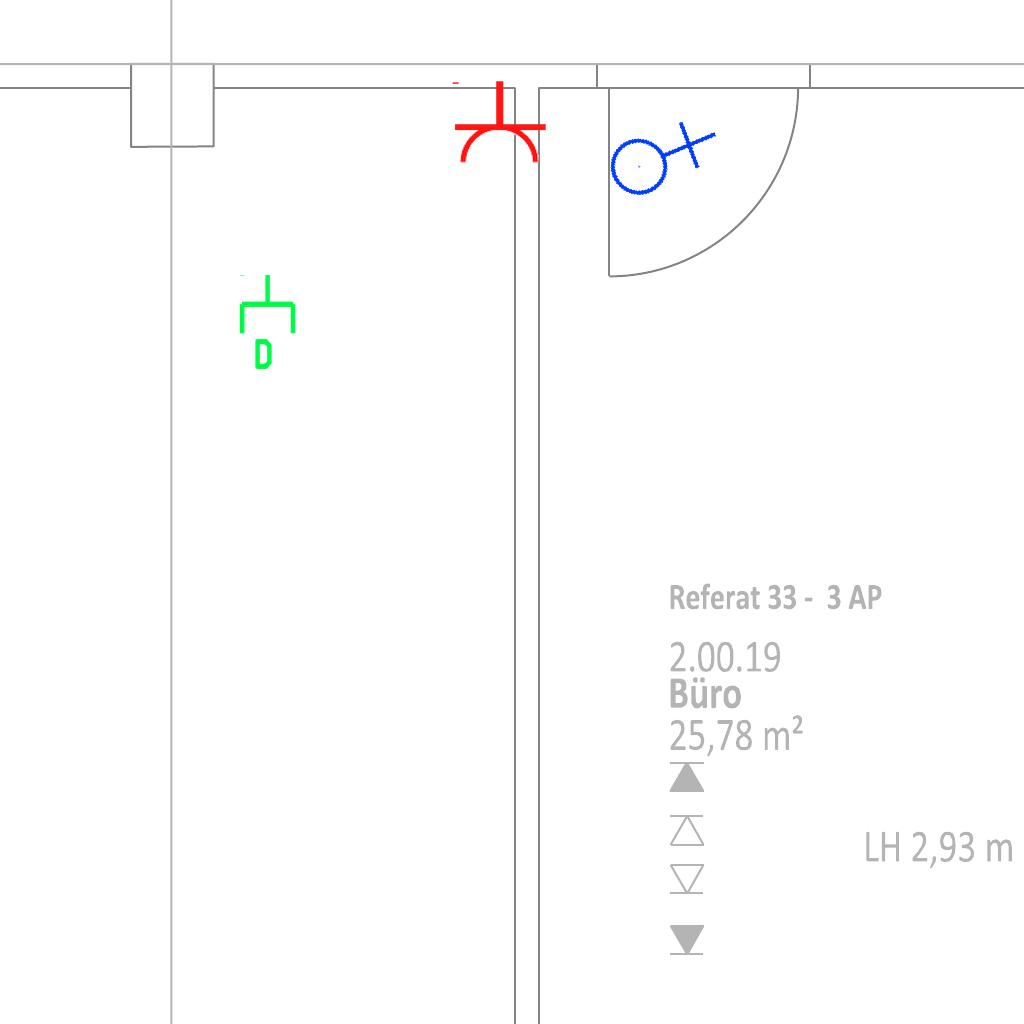Datenanschluss_einfach: (235, 272, 304, 372)
Elektroanschluss_allgemein_230V_Geraeteanschlussdose_230V: (593, 93, 720, 217)
Schukosteckdose_einfach: (448, 79, 548, 166)
